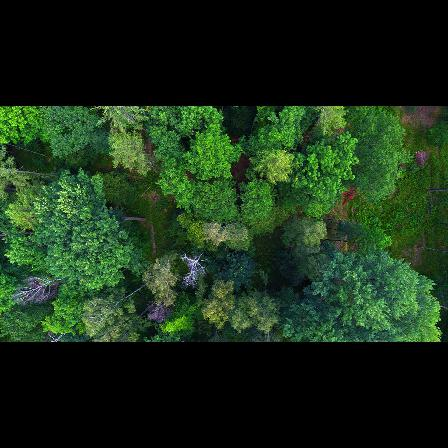Dead: (11, 272, 63, 305), (177, 251, 208, 290), (111, 281, 147, 307), (147, 298, 174, 323)
